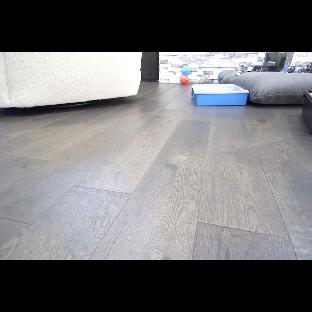V5_BLUE: (181, 66, 190, 75)
V5_RED: (180, 76, 188, 84)
